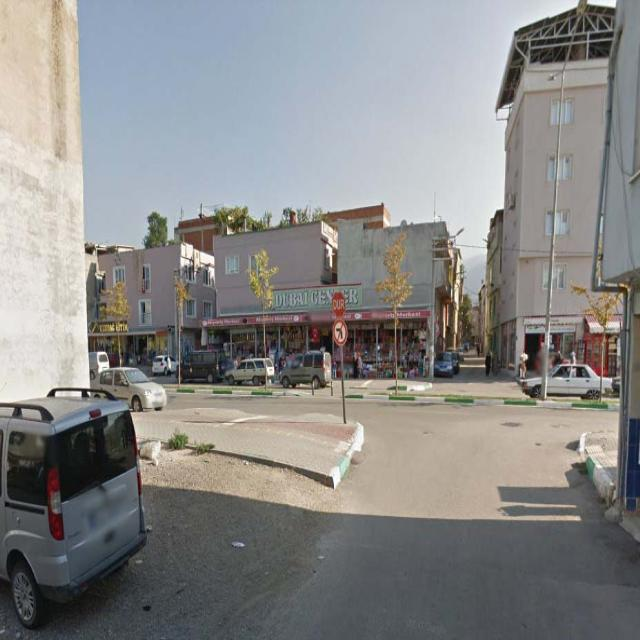dur: (331, 292, 346, 318)
soladonulmez: (332, 319, 349, 346)
